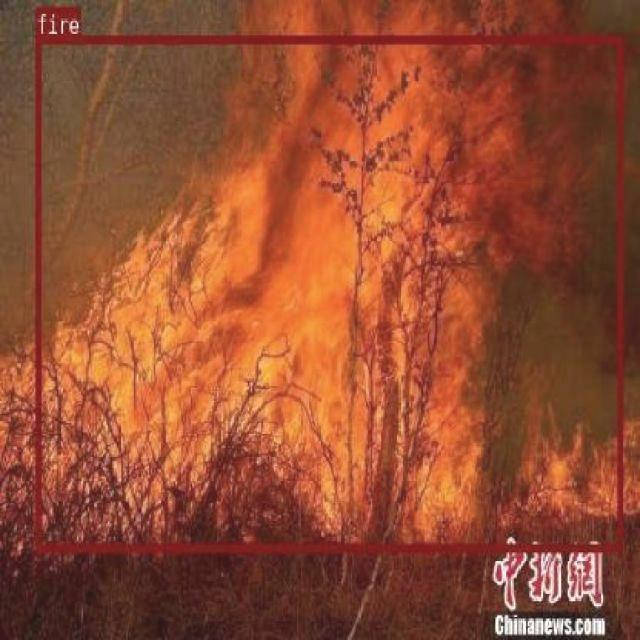fire: (35, 34, 622, 551)
